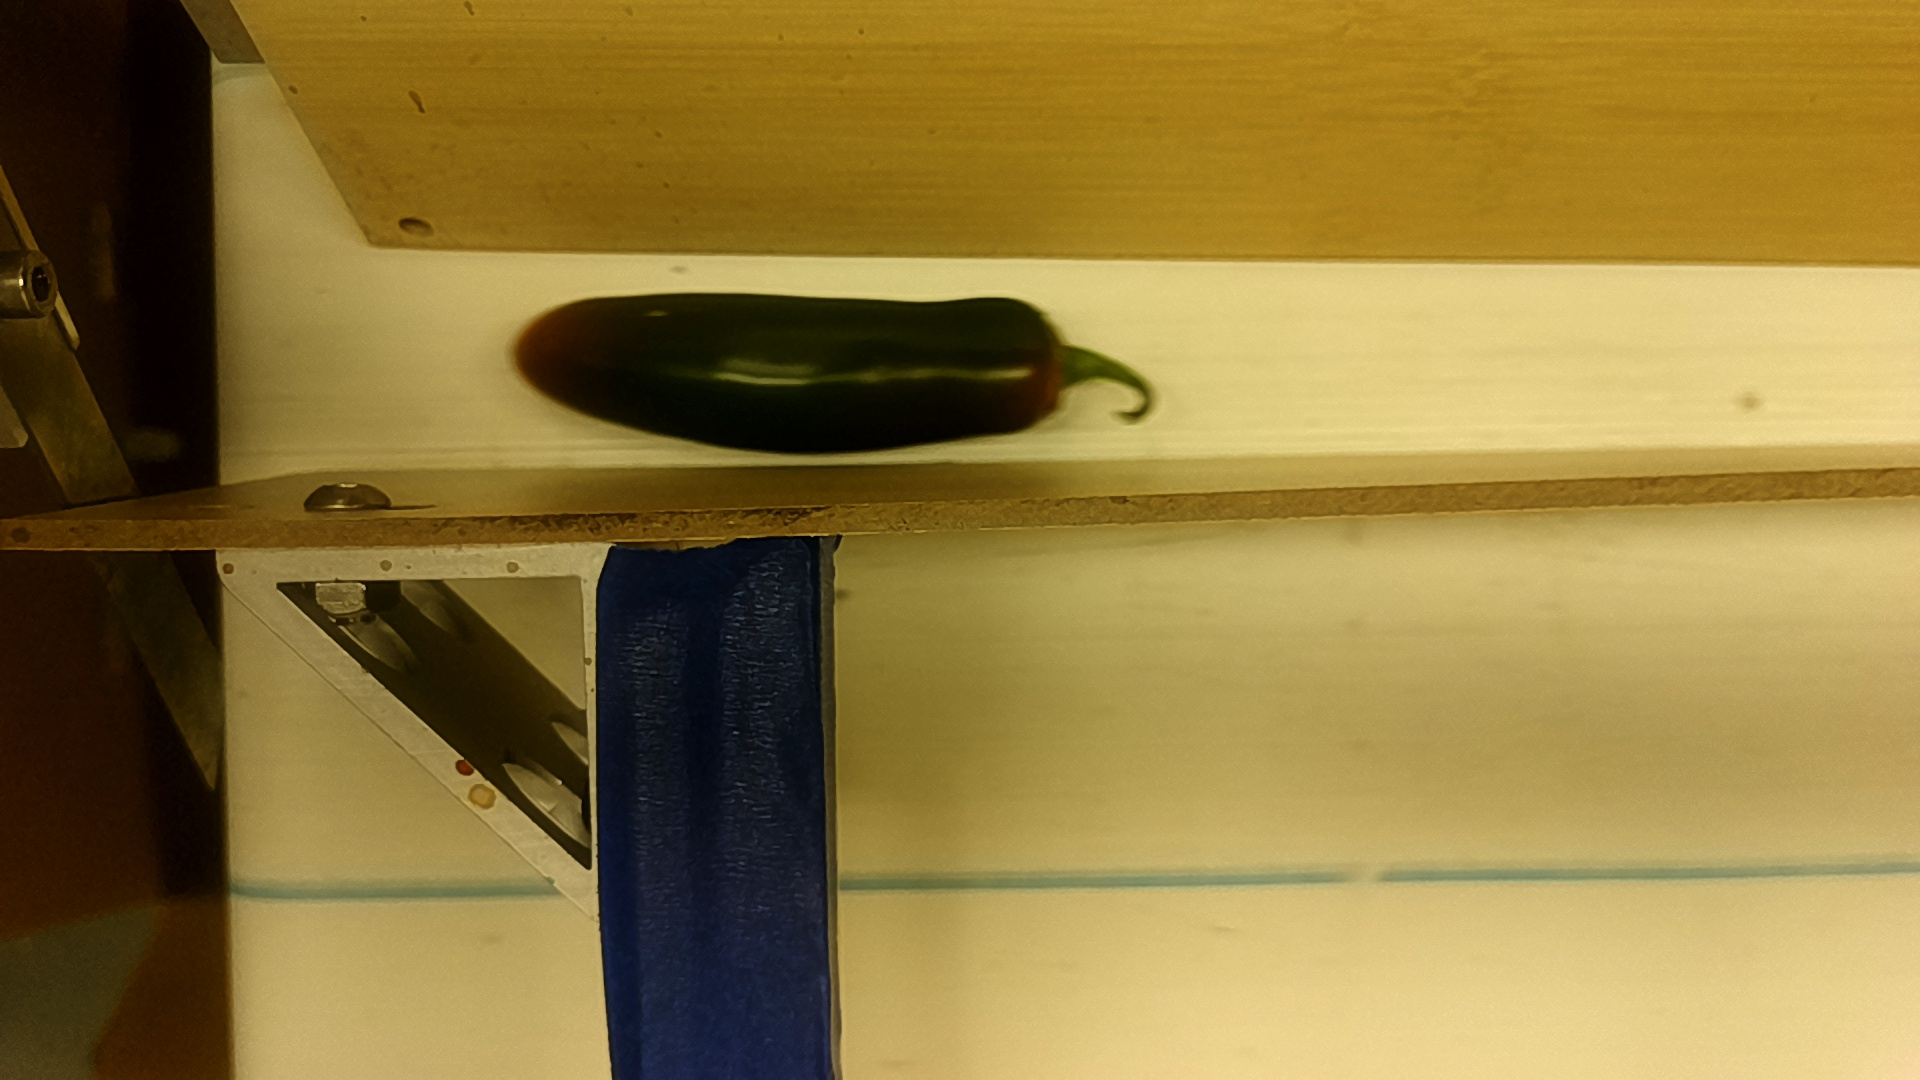Cut Point: (1013, 289, 1085, 436)
